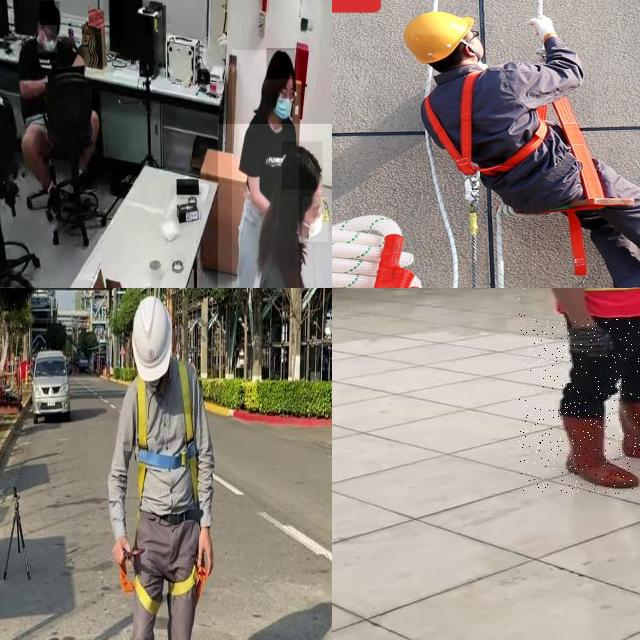Harness: (426, 61, 547, 179), (137, 362, 198, 502), (121, 568, 201, 616)
boots: (552, 411, 640, 492), (616, 395, 640, 466)
face_mask: (302, 197, 328, 242), (272, 83, 296, 129), (38, 25, 58, 54)
head_nohelmet: (282, 142, 323, 190), (266, 48, 296, 80), (40, 1, 60, 23)
person: (519, 288, 640, 494), (6, 1, 98, 213), (218, 124, 332, 288), (232, 50, 299, 288)
